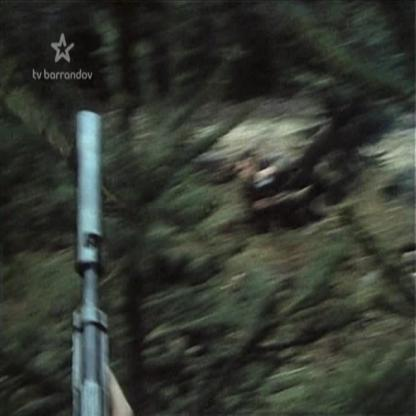gun: (53, 92, 128, 416)
